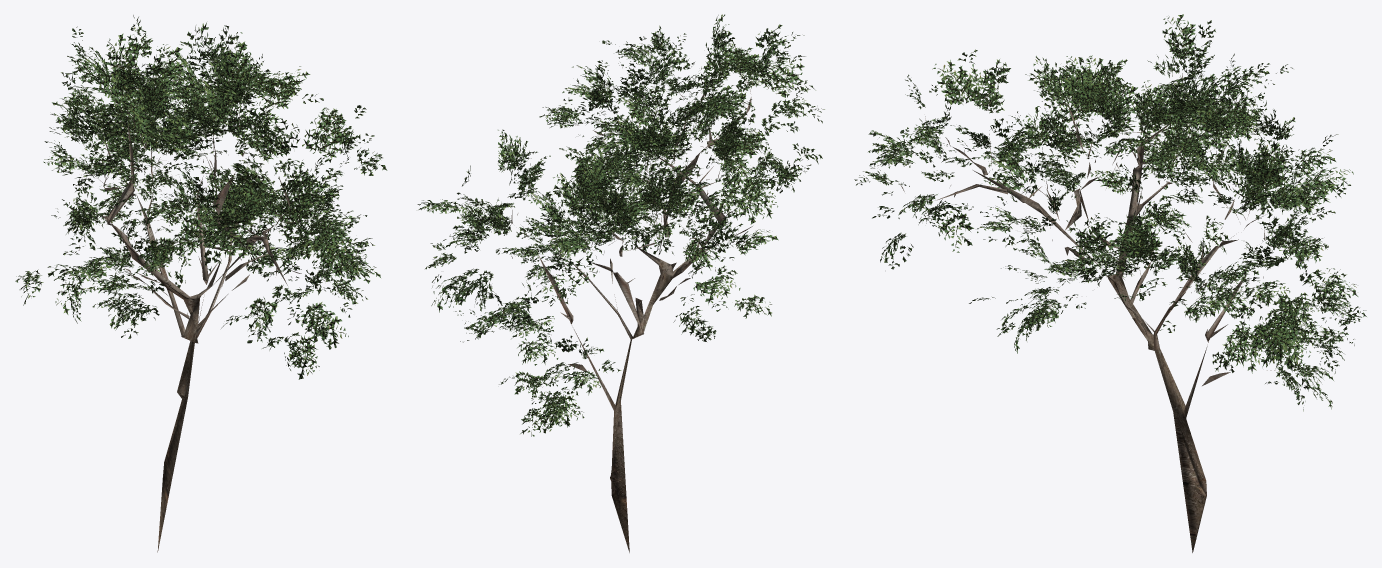
File: tree_small_02_mid.glb
The picture shows the model from 3 angles, left to right: view 1: azimuth 30°, elevation 25°; view 2: azimuth 150°, elevation 25°; view 3: azimuth 270°, elevation 25°; orthographic projection. The views are drawn at different scales.
Parts seen in each view (by area): view 1: tree_small_02_LOD0; view 2: tree_small_02_LOD0; view 3: tree_small_02_LOD0.
Boxes of the visible parts, x1,y1,x2,y2 form: tree_small_02_LOD0: (15, 15, 387, 552); tree_small_02_LOD0: (417, 14, 824, 552); tree_small_02_LOD0: (854, 14, 1366, 552).
Bounding box in the file's own units: 2.91 × 4.54 × 4.23.
Materials: 3 (3 with a texture image).
